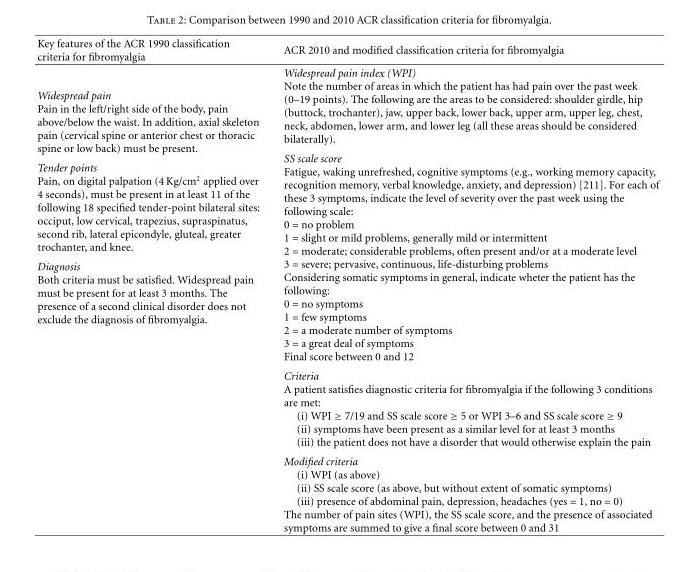table: (36, 37, 658, 533)
table column: (271, 37, 658, 533), (36, 37, 271, 533)
table column header: (36, 37, 658, 64)
table row: (36, 64, 658, 533), (36, 37, 658, 64)
